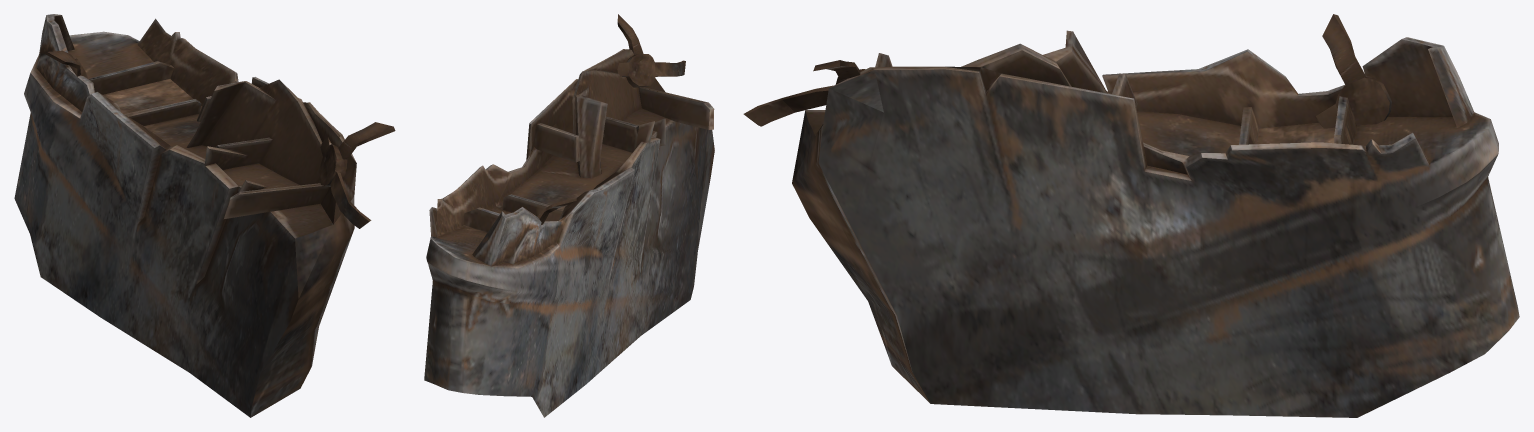
The model's file is plane_wreckage_debris_05.dae.
The picture shows the model from 3 angles, left to right: view 1: azimuth 30°, elevation 25°; view 2: azimuth 150°, elevation 25°; view 3: azimuth 270°, elevation 25°; orthographic projection. The views are drawn at different scales.
Visible parts, largest first — view 1: pasted__plane_wreckage_wing4, pasted__polySurface56, pasted__polySurface57; view 2: pasted__plane_wreckage_wing4, pasted__polySurface56, pasted__polySurface57; view 3: pasted__plane_wreckage_wing4, pasted__polySurface57, pasted__polySurface56.
Part boxes in pixels (x1,y1,x2,y2): pasted__plane_wreckage_wing4: (14,14,356,417); pasted__polySurface56: (318,122,395,228); pasted__polySurface57: (43,50,87,78); pasted__plane_wreckage_wing4: (424,49,714,417); pasted__polySurface56: (617,14,685,87); pasted__polySurface57: (537,197,576,224); pasted__plane_wreckage_wing4: (792,30,1519,417); pasted__polySurface57: (1314,14,1391,128); pasted__polySurface56: (743,60,865,126).
Bounding box in the file's own units: 66.21 × 117 × 221.
